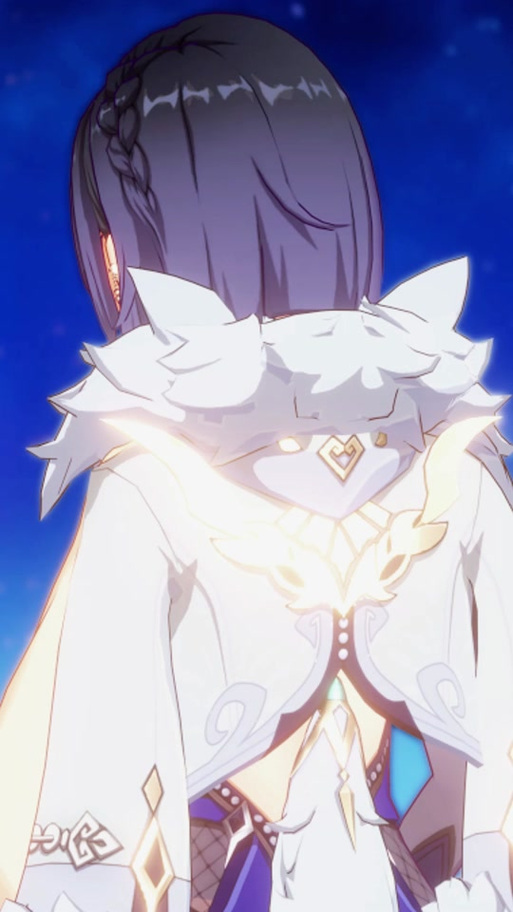夜兰: (56, 33, 513, 912)
